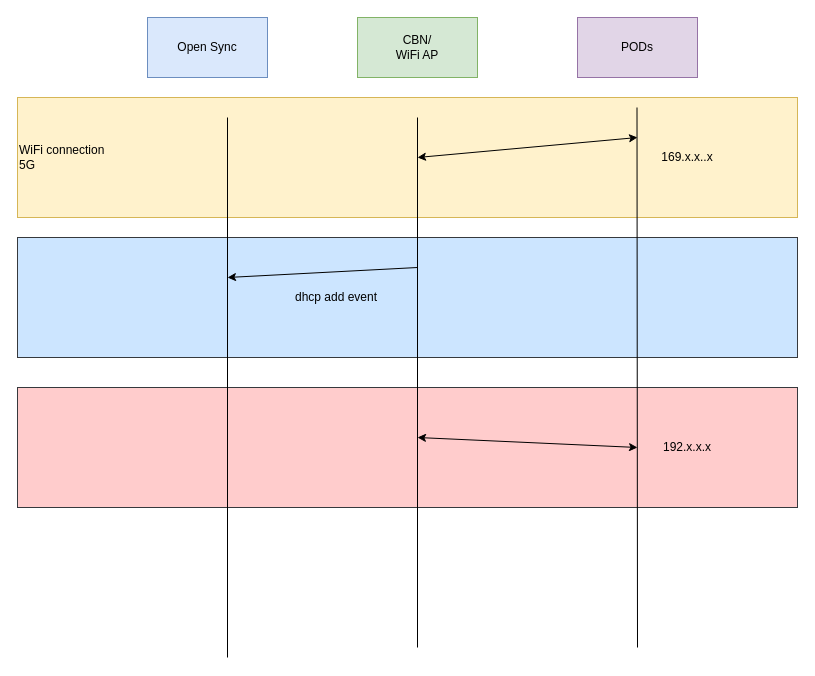
This 815x676 diagram has some shape labels left out. The shapes that lost their labels are listed below. From the top down, each one's box as (x1, y1, x2, y2) in pixels, then its label:
(16, 236, 798, 358): Send dhcp event
(16, 386, 798, 508): Setup 5G gre tunnel
